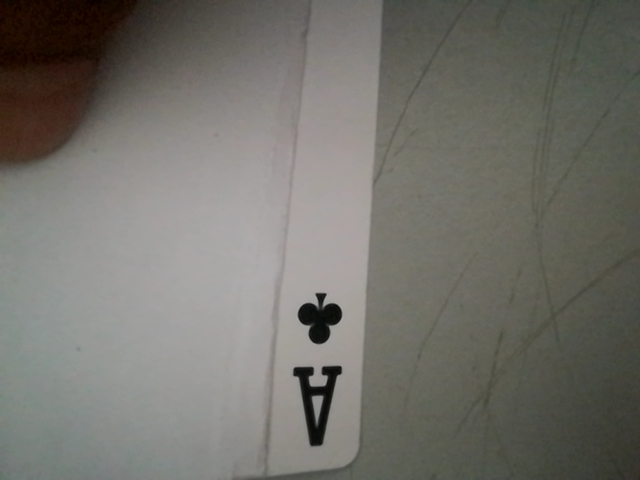mh a: (280, 288, 358, 451)
